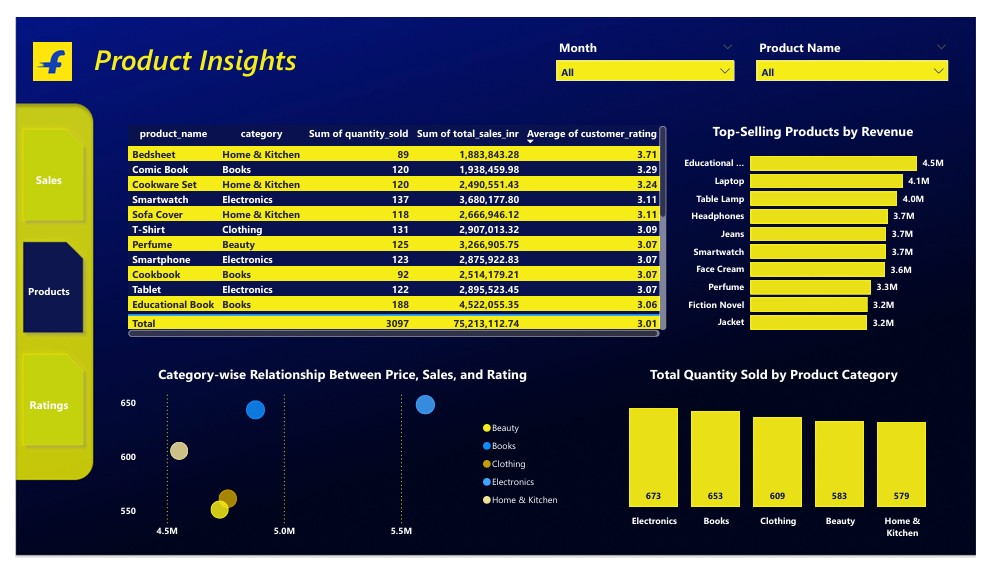

What the dashboard file says about the page in this screenshot:
{"tool":"powerbi","page":{"name":"Products","canvas":[1280,720],"ordinal":1},"visuals":[{"type":"image","box":[18.5,8.4,60.5,99.1],"z":0},{"type":"textbox","box":[99.1,23.5,300.7,68.9],"z":1000},{"type":"tableEx","fields":{"Values":["public flipkart_sales.product_name","public flipkart_sales.category","Sum(public flipkart_sales.quantity_sold)","Sum(public flipkart_sales.total_sales_inr)","Avg(public flipkart_sales.customer_rating)"]},"box":[144.5,139.4,727.3,290.6],"z":2000},{"type":"barChart","title":"Top-Selling Products by Revenue","fields":{"Category":["public flipkart_sales.product_name"],"Y":["Sum(public flipkart_sales.total_sales_inr)"]},"box":[871.8,139.4,381.3,290.6],"z":3000},{"type":"columnChart","title":"Total Quantity Sold by Product Category","fields":{"Category":["public flipkart_sales.category"],"Y":["Sum(public flipkart_sales.quantity_sold)"]},"box":[767.7,461.9,485.5,240.2],"z":4000},{"type":"scatterChart","title":"Category-wise Relationship Between Price, Sales, and Rating","fields":{"X":["Sum(public flipkart_sales.price_inr)"],"Y":["Sum(public flipkart_sales.customer_rating)"],"Size":["Sum(public flipkart_sales.quantity_sold)"],"Series":["public flipkart_sales.category"]},"box":[134.4,461.9,603,240.2],"z":5000},{"type":"slicer","fields":{"Values":["public flipkart_sales.product_name"]},"box":[977.6,23.5,275.5,87.3],"z":6000},{"type":"slicer","fields":{"Values":["public flipkart_sales.order_date.Variation.Date Hierarchy.Month"]},"box":[710.6,23.5,257,87.3],"z":7000},{"type":"pageNavigator","box":[0,139.4,99.1,440.1],"z":8000}]}

Visuals, with their boxes in screenshot pixels (x1, y1, x2, y2), scaled from the page's 1280x720 canvas onto the 992x574 screenshot:
image: pyautogui.locateOnScreen(14, 7, 61, 86)
textbox: pyautogui.locateOnScreen(77, 19, 310, 74)
tableEx - public flipkart_sales.product_name x public flipkart_sales.category: pyautogui.locateOnScreen(112, 111, 676, 343)
"Top-Selling Products by Revenue" barChart: pyautogui.locateOnScreen(676, 111, 971, 343)
"Total Quantity Sold by Product Category" columnChart: pyautogui.locateOnScreen(595, 368, 971, 560)
"Category-wise Relationship Between Price, Sales, and Rating" scatterChart: pyautogui.locateOnScreen(104, 368, 571, 560)
slicer - public flipkart_sales.product_name: pyautogui.locateOnScreen(758, 19, 971, 88)
slicer - public flipkart_sales.order_date.Variation.Date Hierarchy.Month: pyautogui.locateOnScreen(551, 19, 750, 88)
pageNavigator: pyautogui.locateOnScreen(0, 111, 77, 462)
